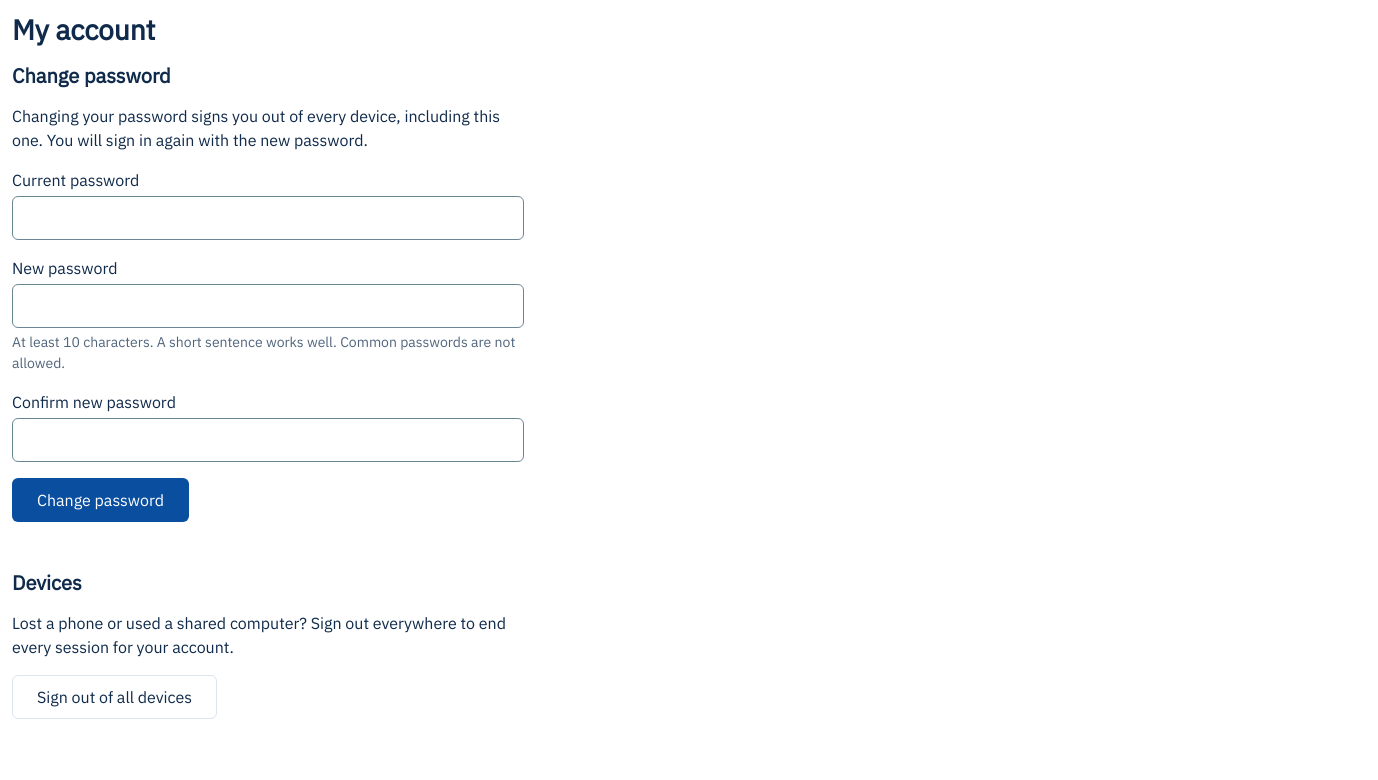
Test: AccountPage › changes the password, signs out locally and shows a notice on the sign-in page
Type "current password!" into the password field labelled "Current password" at {"x": 268, "y": 218}, box [12,196,524,240]
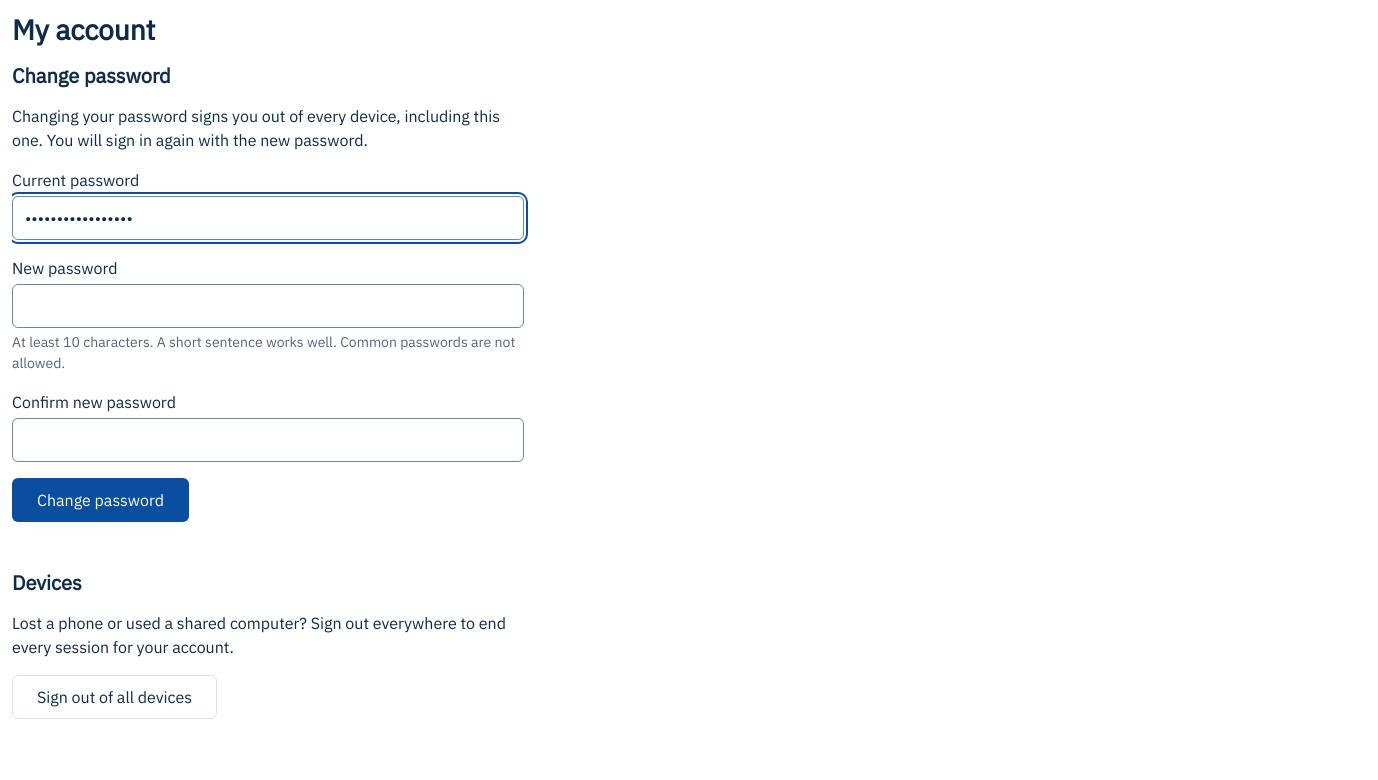
Type "a brand new passphrase" into the password field labelled "New password" at {"x": 268, "y": 306}, box [12,284,524,328]
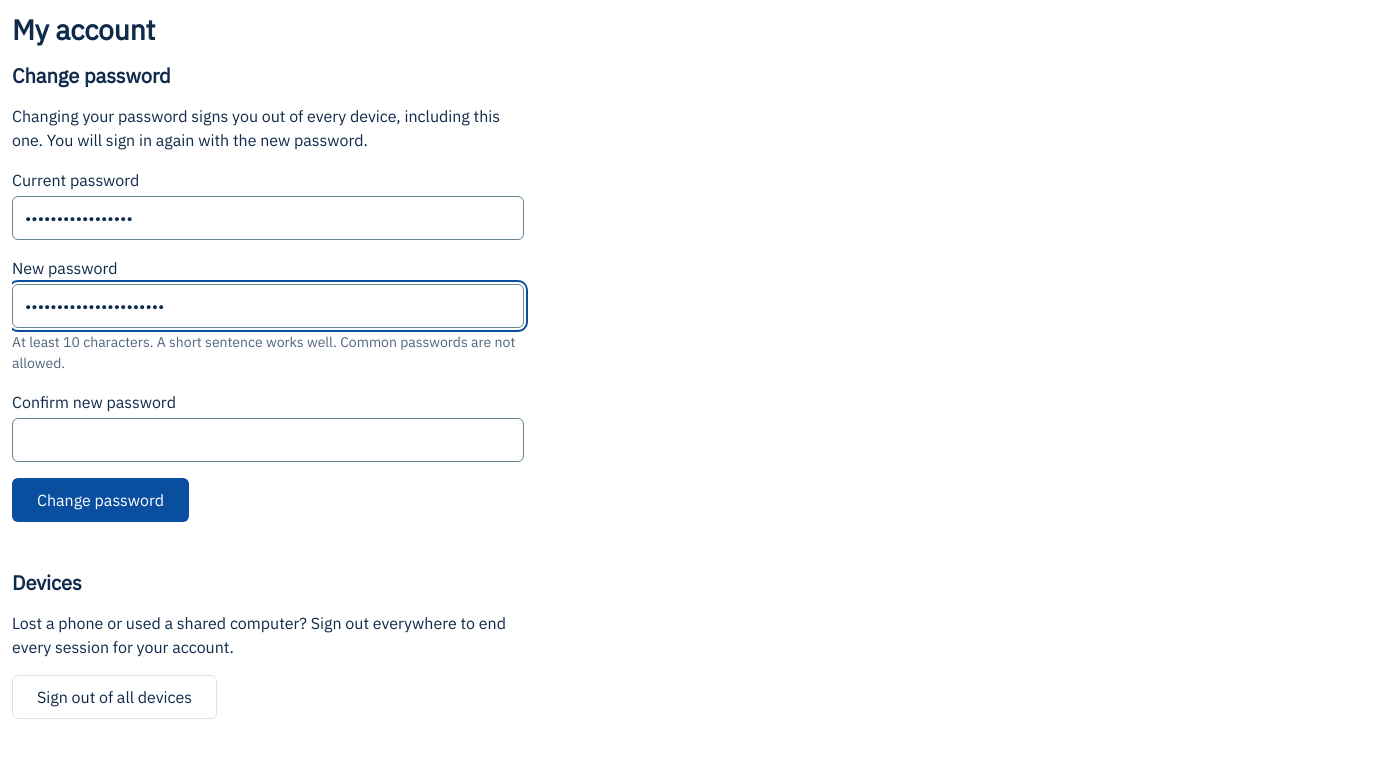
Type "a brand new passphrase" into the password field labelled "Confirm new password" at {"x": 268, "y": 440}, box [12,418,524,462]
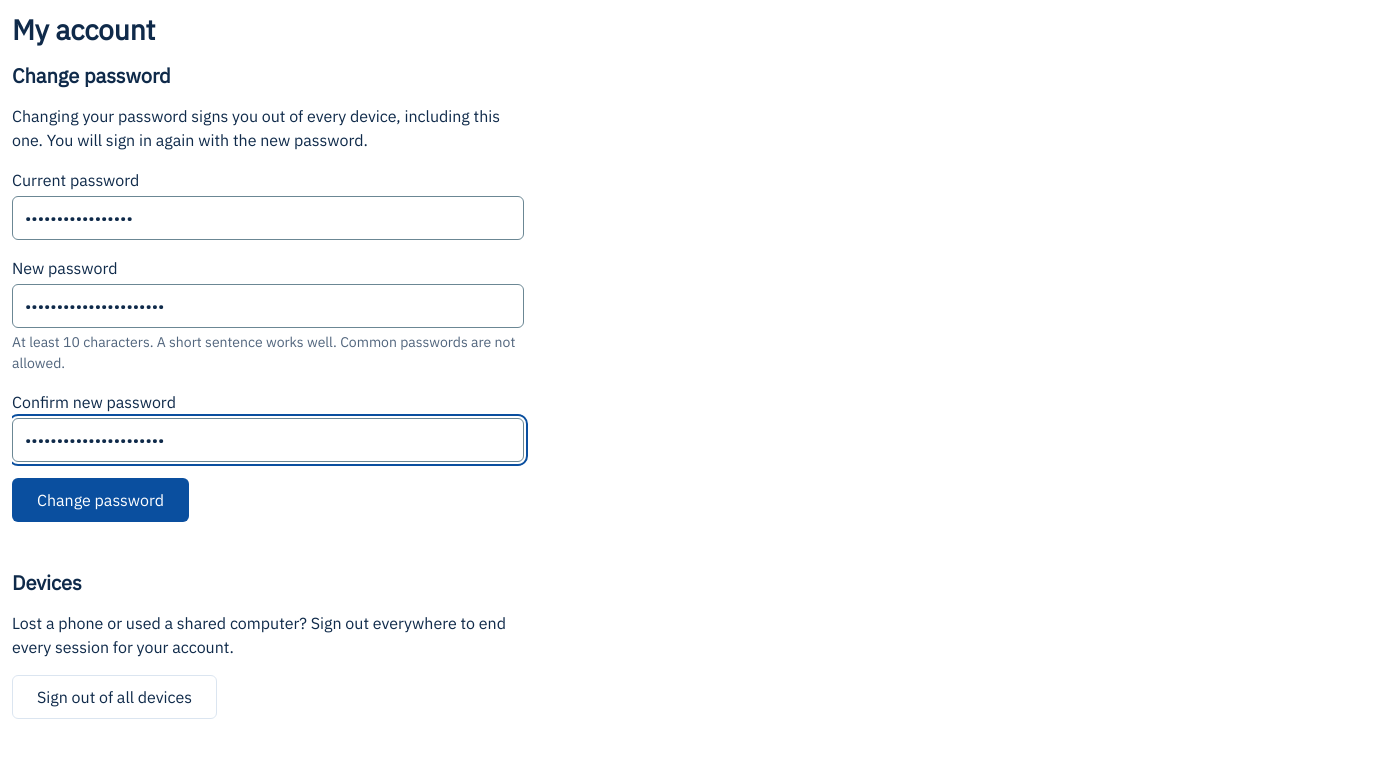
Click the button "Change password" at {"x": 100, "y": 500}, box [12,478,189,522]
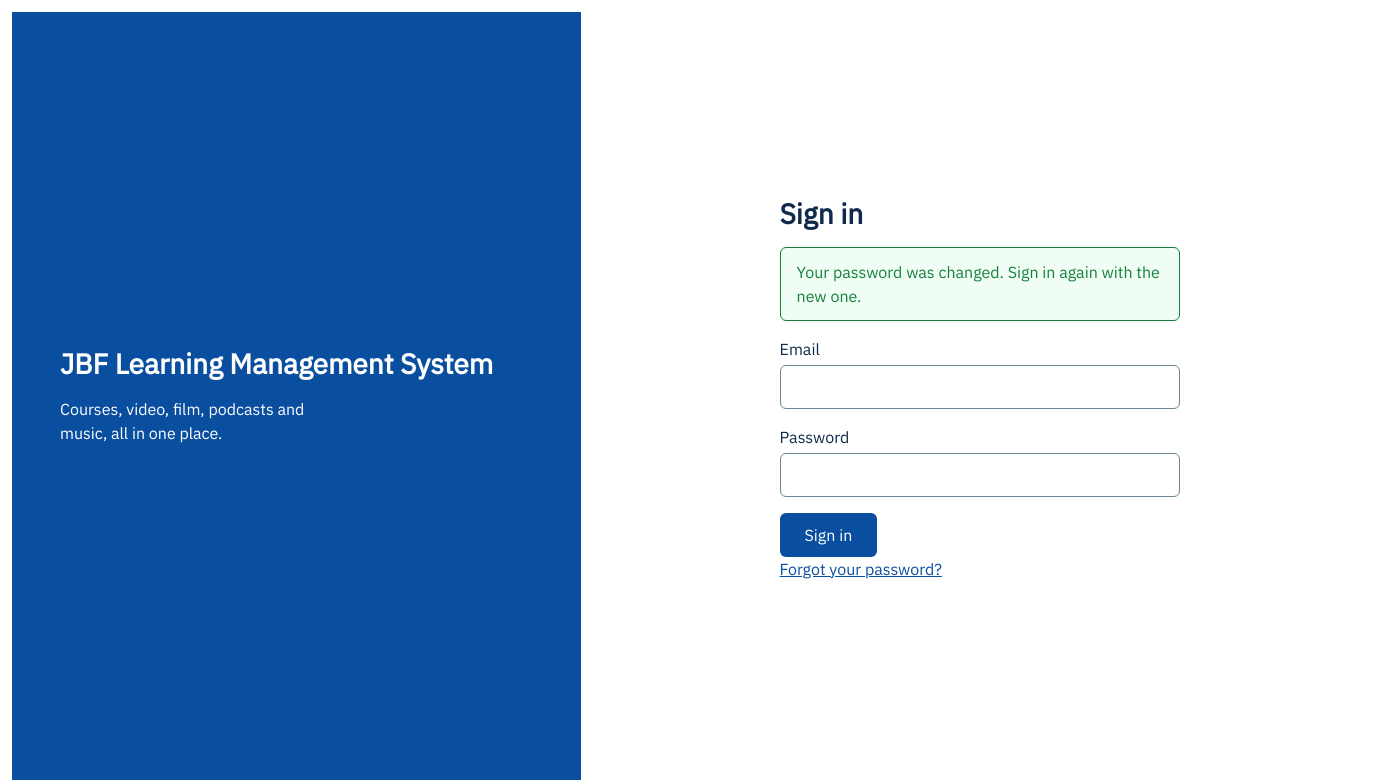
Expected: the heading "Sign in" is shown, [780,194,863,232]
Expected: the message reads "Your password was changed. Sign in again with the new one.", [797,262,1160,306]
